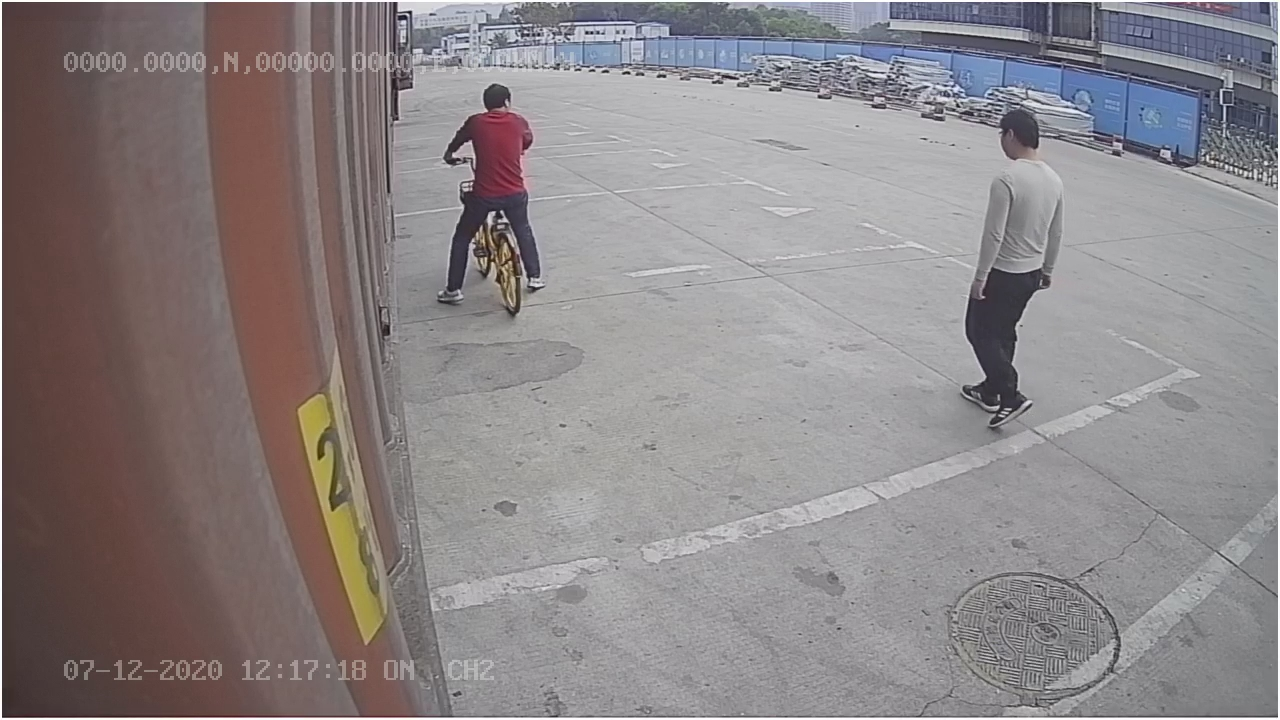person: (959, 101, 1069, 434)
